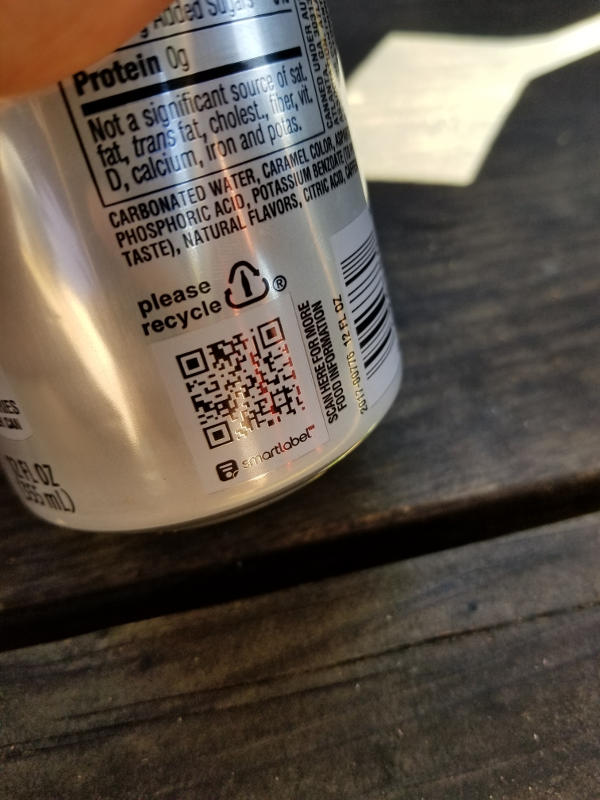QR_CODE: (161, 304, 320, 469)
